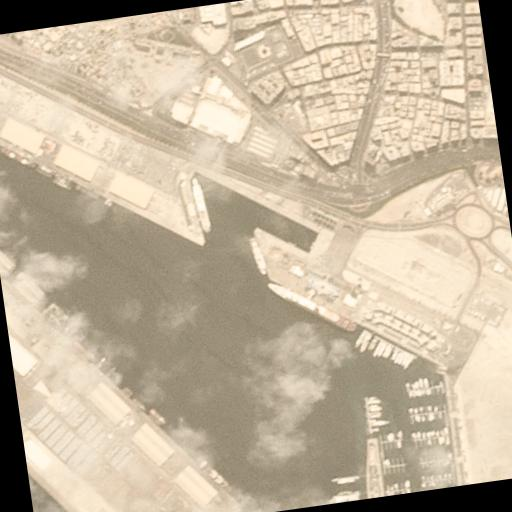ship: (226, 317, 366, 470), (265, 272, 356, 342), (150, 291, 198, 332), (194, 452, 234, 494), (190, 177, 212, 233), (249, 234, 269, 278), (146, 404, 166, 426)
